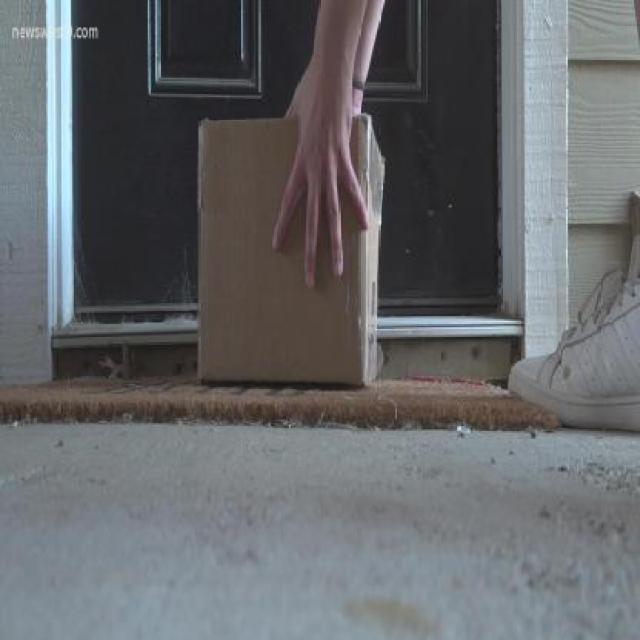box: (188, 100, 392, 401)
